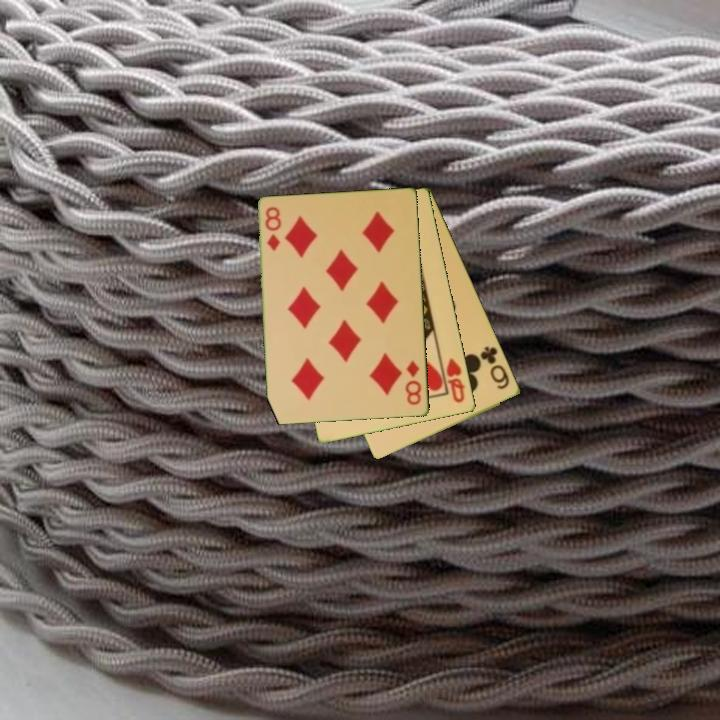6c: (477, 343, 513, 392)
8d: (402, 357, 424, 408), (262, 203, 283, 254)
Qh: (443, 355, 468, 406)
